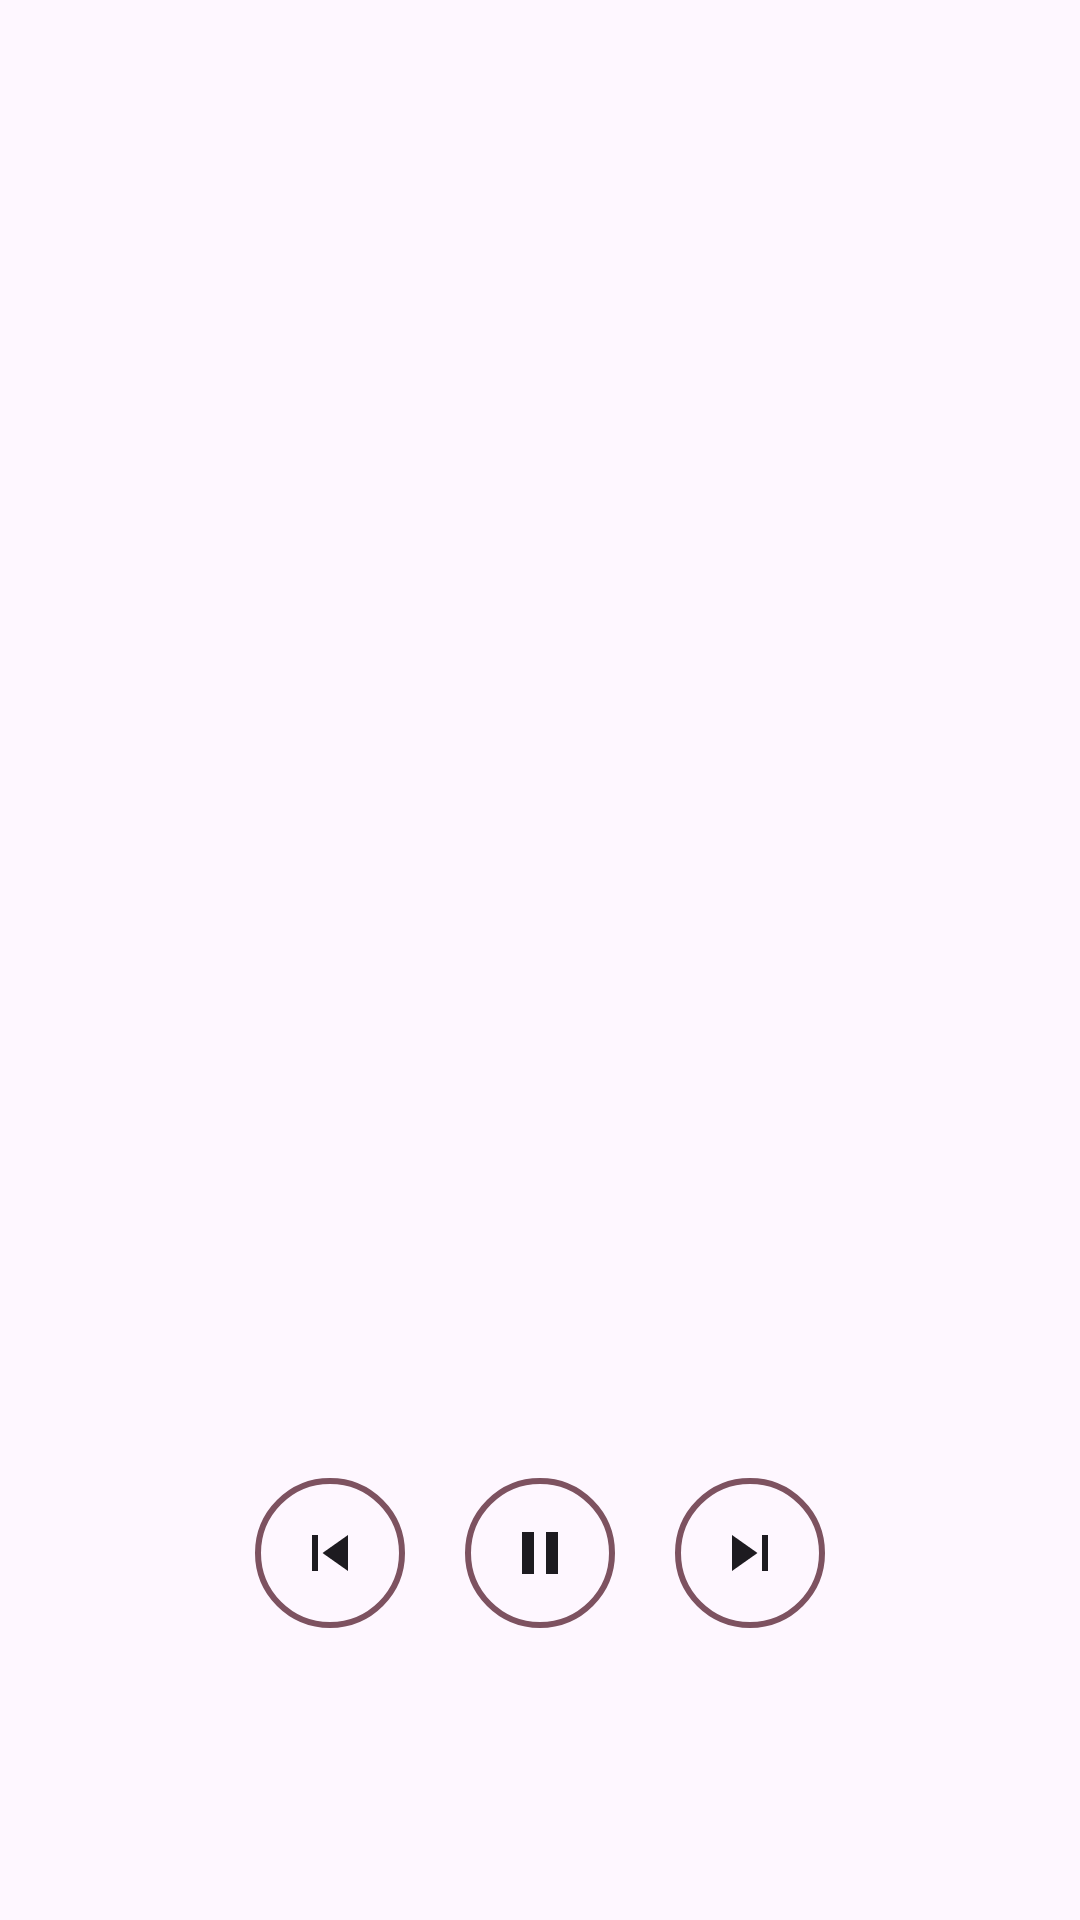

Screen size 1080*1920. Icon name, then its center in pixels as (x,y):
next: (750,1553)
pause: (540,1553)
prev: (330,1553)
